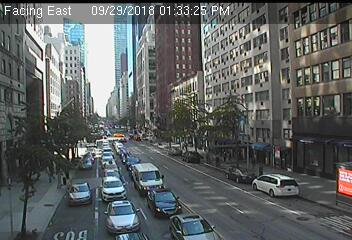car: (169, 214, 220, 240), (105, 200, 142, 233), (252, 174, 299, 199), (132, 163, 166, 196), (146, 190, 182, 218), (100, 177, 128, 201), (67, 181, 91, 205), (226, 167, 255, 183), (104, 169, 122, 184), (181, 151, 201, 164), (125, 156, 142, 169), (104, 162, 118, 174), (79, 158, 92, 170), (167, 148, 182, 157), (101, 152, 114, 162), (83, 154, 93, 163)
